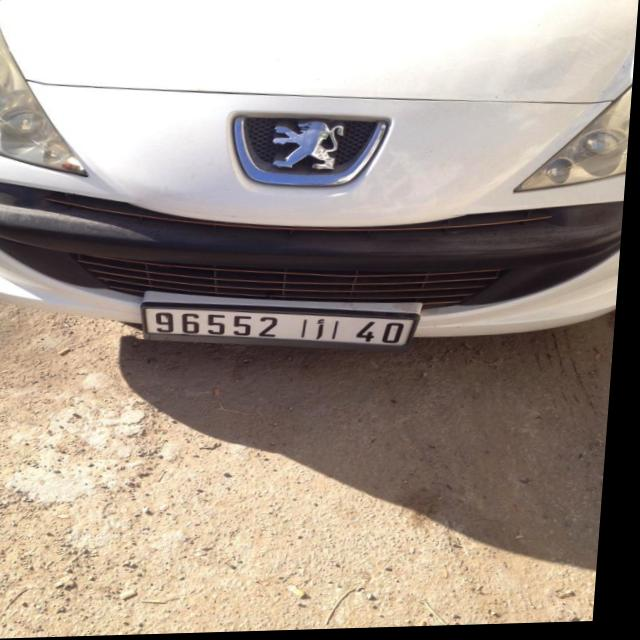License-Plate: (151, 311, 419, 350)
